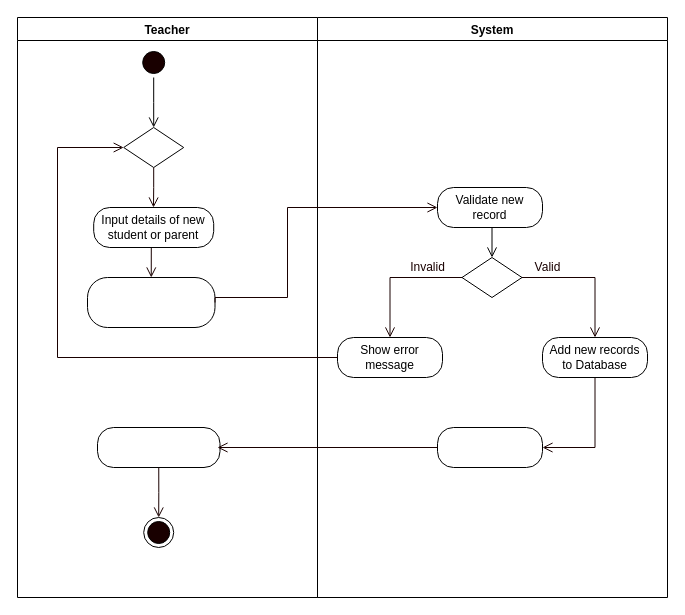
Image size: 685x615. Some labels were removed from this diagram. Here are the shapes that lost their labels. From the top down, the centre of each, then its label:
At point (150, 302): "Submit new student/parent record".
At point (158, 447): "View new student/parent record".
At point (489, 447): "Show message new record added".
